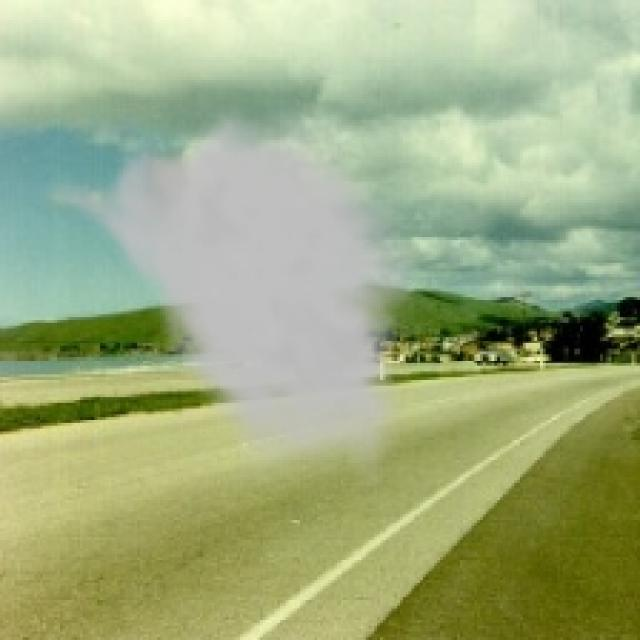smoke: (37, 100, 420, 489)
